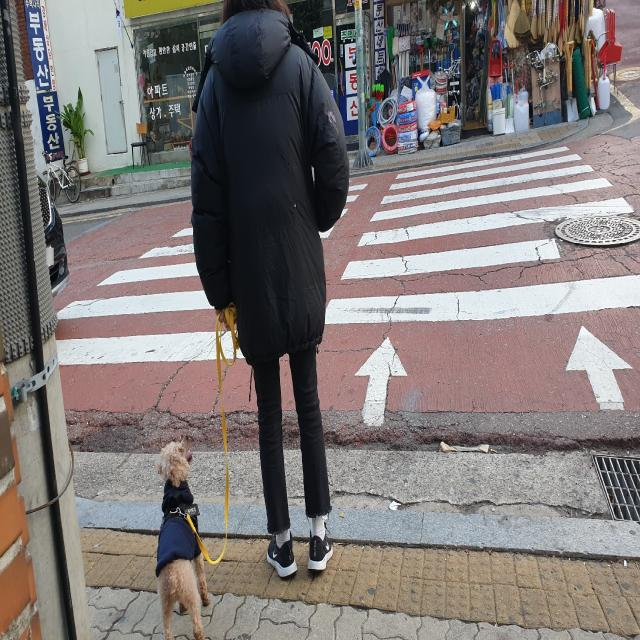횡단보도: (52, 138, 640, 430)
